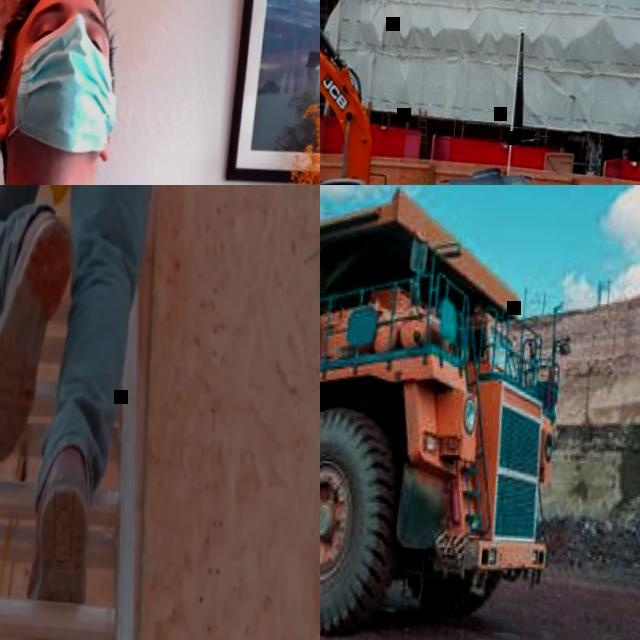Mask: (0, 13, 121, 159)
NO-Hardhat: (0, 0, 112, 28)
Person: (0, 185, 203, 640), (0, 0, 255, 185)
machinery: (320, 185, 582, 640), (320, 0, 487, 185)
